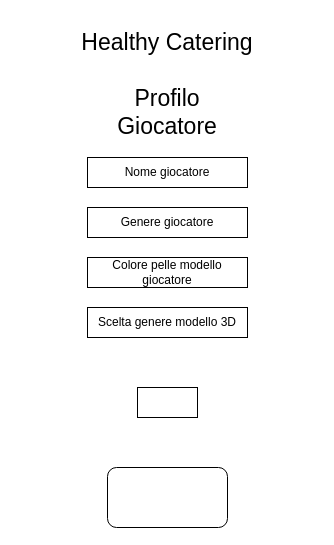
This 334x545 diagram has some shape labels left out. Here are the shapes that lost their labels. From the top down, the centre of each, then its label:
(167,402): Salva
(167,497): Torna Indietro
